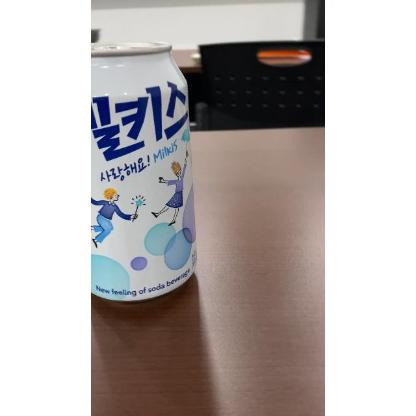Can: (92, 40, 198, 302)
